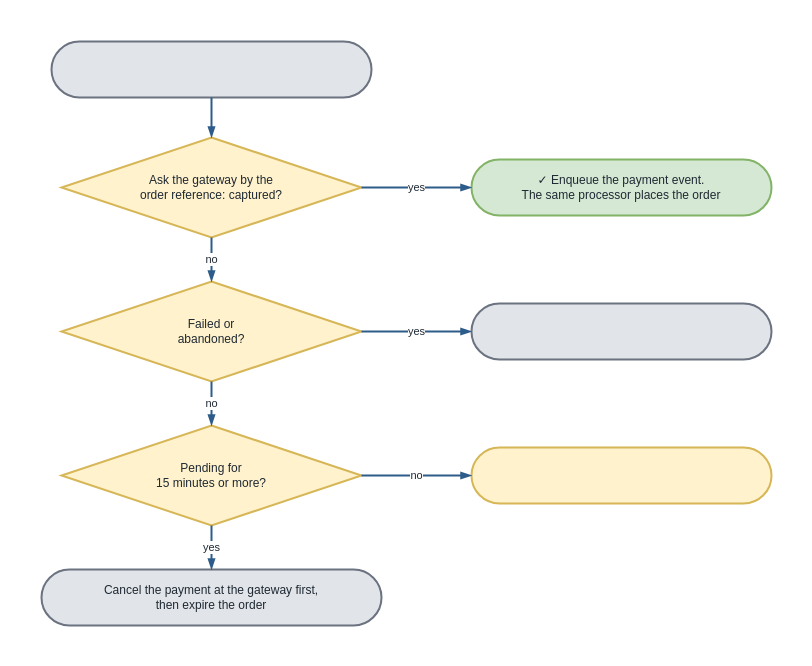
Image size: 812x666. Some labels were removed from this diagram. Each missing label, with the centre of its shape:
Every 5 minutes: each order PendingPayment for 3+ minutes: [211,69]
Mark PaymentFailed. The gateway said so: [621,331]
Still pending. Ask again on the next run: [621,475]
